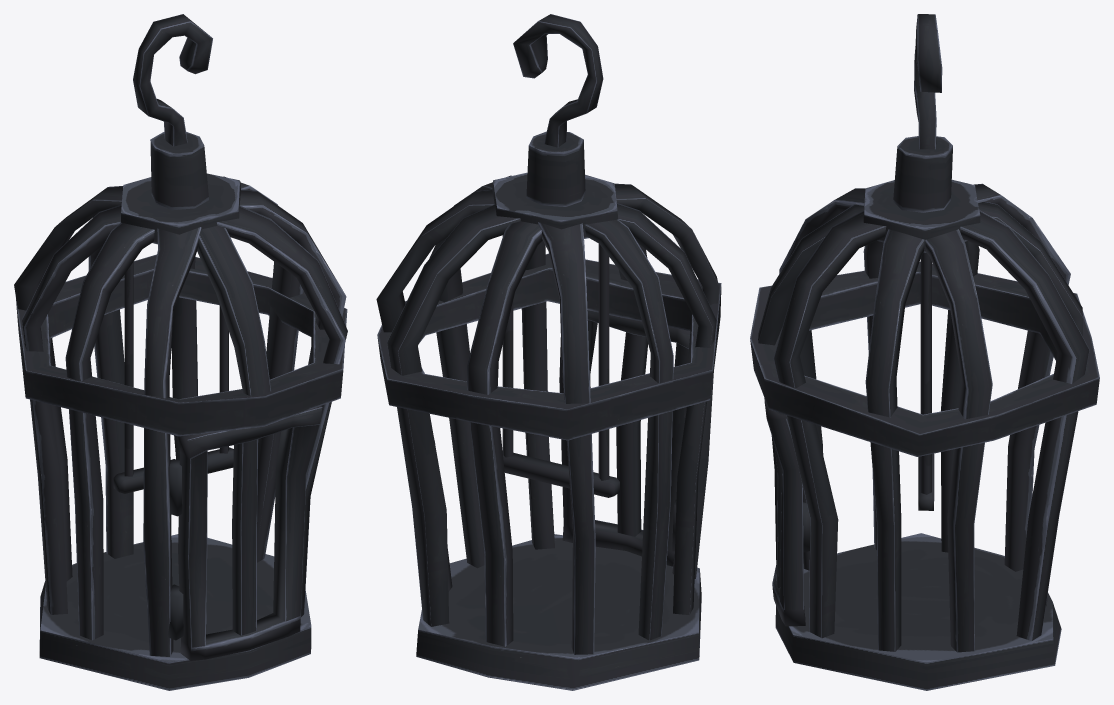
File: SM_PROP_birdcage_interior_01.fbx
3 views of the same model, side by side, from view 1: azimuth 30°, elevation 25°; view 2: azimuth 150°, elevation 25°; view 3: azimuth 270°, elevation 25° (orthographic).
Visible parts, largest first — view 1: SM_PROP_birdcage_interior_01, SM_PROP_birdcage_door_interior_01, SM_PROP_birdcage_swing_interior_01; view 2: SM_PROP_birdcage_interior_01, SM_PROP_birdcage_door_interior_01, SM_PROP_birdcage_swing_interior_01; view 3: SM_PROP_birdcage_interior_01, SM_PROP_birdcage_door_interior_01, SM_PROP_birdcage_swing_interior_01.
Boxes of the visible parts, x1,y1,x2,y2 form: SM_PROP_birdcage_interior_01: [14, 14, 347, 690]; SM_PROP_birdcage_door_interior_01: [178, 406, 322, 660]; SM_PROP_birdcage_swing_interior_01: [113, 262, 233, 493]; SM_PROP_birdcage_interior_01: [376, 14, 721, 690]; SM_PROP_birdcage_door_interior_01: [559, 310, 690, 566]; SM_PROP_birdcage_swing_interior_01: [502, 235, 619, 497]; SM_PROP_birdcage_interior_01: [750, 14, 1099, 690]; SM_PROP_birdcage_door_interior_01: [764, 398, 805, 626]; SM_PROP_birdcage_swing_interior_01: [918, 252, 934, 510].
Bounding box in the file's own units: 48.43 × 86.87 × 45.48.
